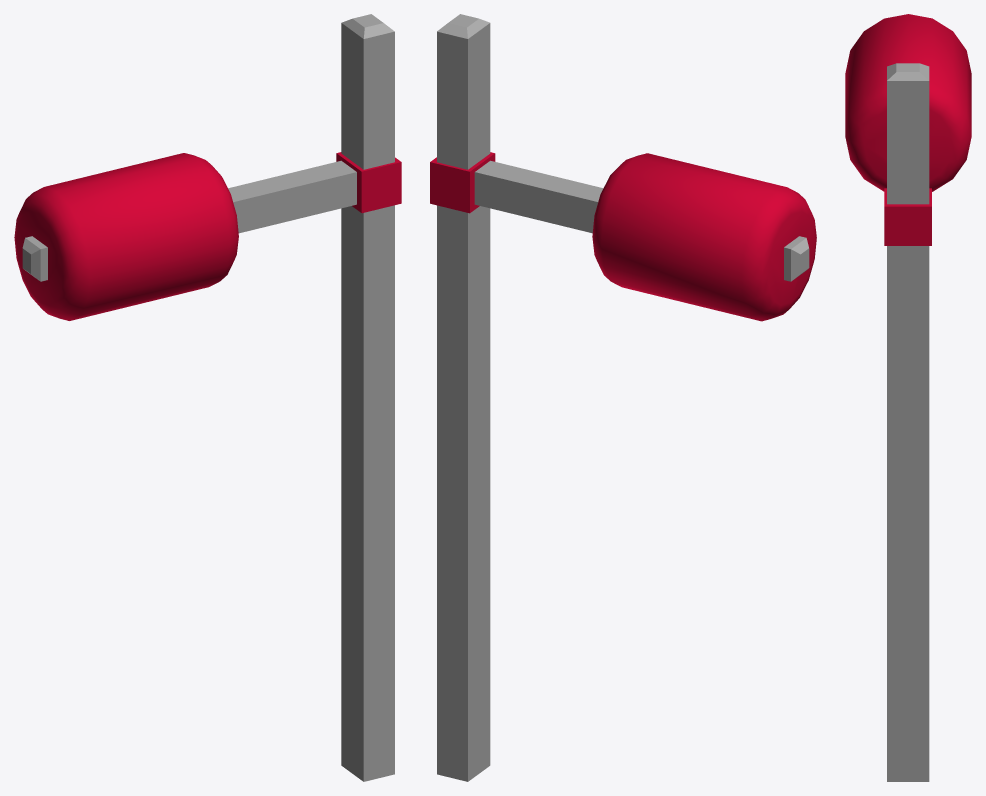
The picture shows the model from 3 angles, left to right: view 1: azimuth 30°, elevation 25°; view 2: azimuth 150°, elevation 25°; view 3: azimuth 270°, elevation 25°; orthographic projection. The views are drawn at different scales.
Parts seen in each view (by area): view 1: pCube119, pCube121; view 2: pCube119, pCube121; view 3: pCube119, pCube121.
Part boxes in pixels (x1,y1,x2,y2): pCube119: (341, 14, 394, 781); pCube121: (14, 152, 401, 320); pCube119: (437, 14, 490, 781); pCube121: (430, 152, 816, 321); pCube119: (887, 63, 929, 781); pCube121: (845, 14, 971, 245).
Bounding box in the file's own units: 284 × 562 × 90.8.
